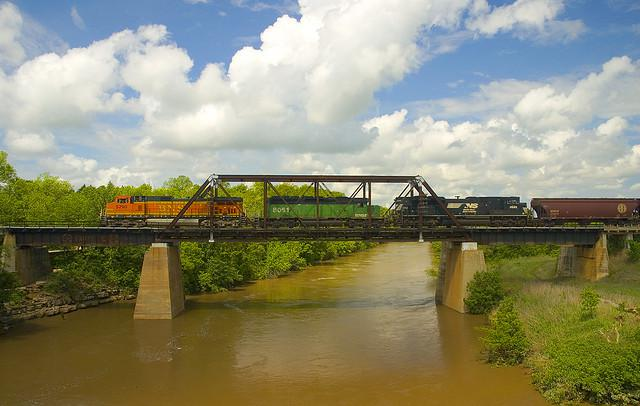Train: (107, 195, 640, 226)
